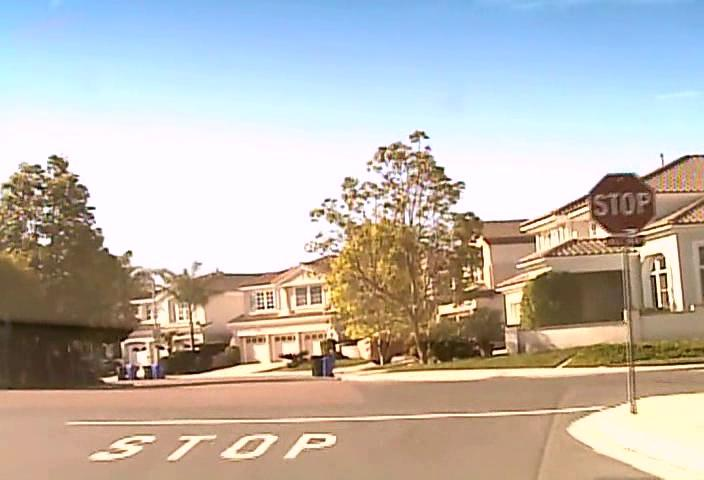stop: (588, 172, 656, 236)
